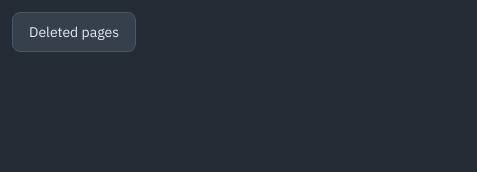
Test: DeletedPages list (BOS-2197) › shows title, folder, who deleted it and when, with Restore; Restore posts, reloads the tree and opens the page
Step 1. Click the button "Deleted pages" → (74, 32), box [12,12,136,52]
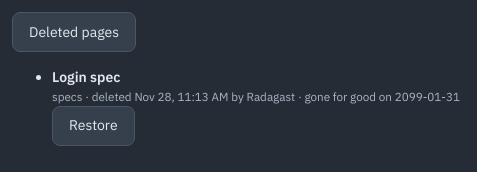
expect the text "Login spec" is shown: met, box [52,68,120,86]
expect the text "specs" is shown: met, box [52,89,92,104]
expect the text "2099-01-31" is shown: met, box [395,89,460,104]
Step 2. Click the button with aria-label "Restore Login spec" → (93, 126), box [52,106,135,146]
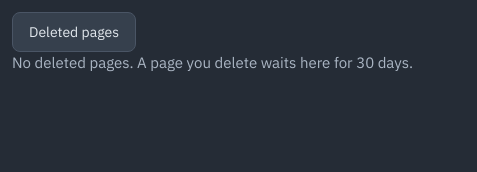
expect the text "No deleted pages. A page you delete waits here for 30 days." is shown: met, box [12,53,413,72]
